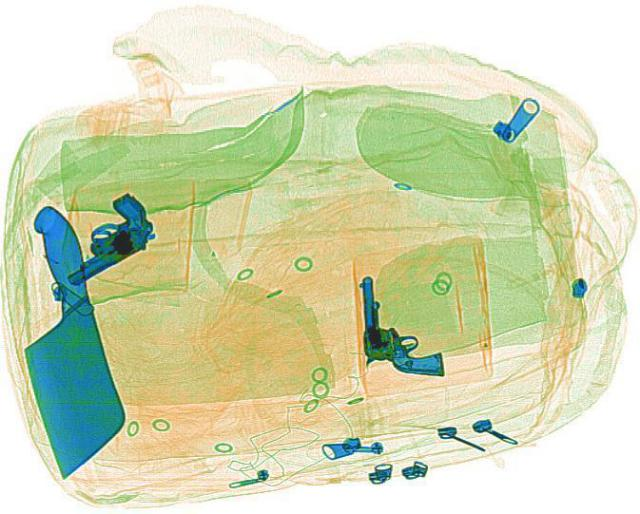Gun: (27, 188, 171, 286), (355, 270, 443, 378)
Knife: (0, 205, 136, 476)
